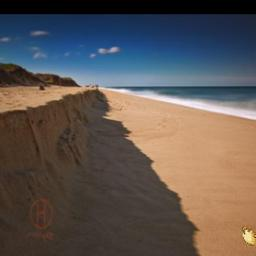Sparrow: (241, 226, 256, 247)
